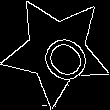O_NW: (24, 18, 90, 84)
